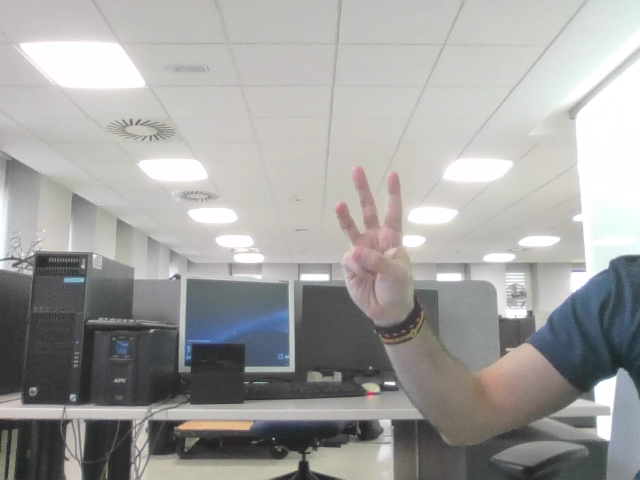3Dedos: (343, 179, 395, 291)
